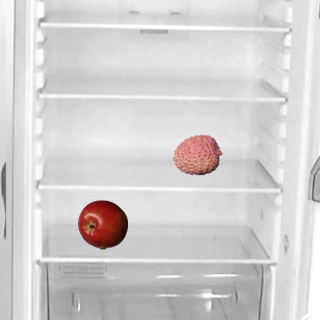Apple Braeburn: (77, 199, 127, 249)
Lychee: (172, 129, 222, 179)
